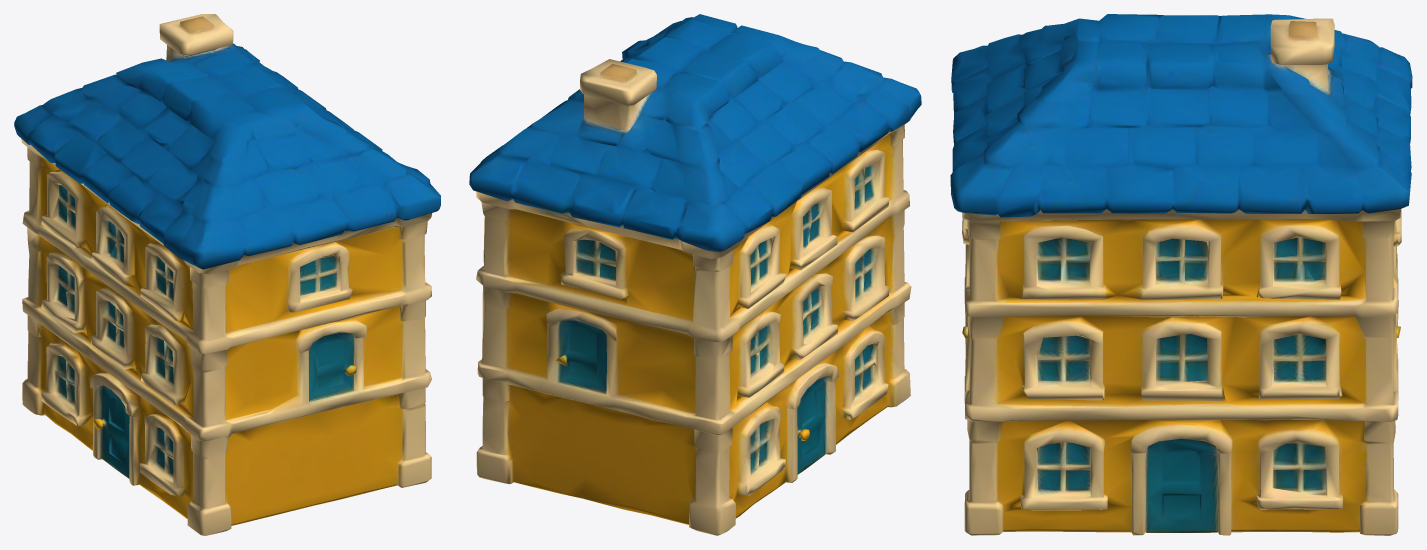
File: grandma-house.glb
3 views of the same model, side by side, from view 1: azimuth 30°, elevation 25°; view 2: azimuth 150°, elevation 25°; view 3: azimuth 270°, elevation 25° (orthographic). The views are drawn at different scales.
Parts seen in each view (by area): view 1: tripo_node_44814b10-dcca-4a2e-a59f-a83579afea25; view 2: tripo_node_44814b10-dcca-4a2e-a59f-a83579afea25; view 3: tripo_node_44814b10-dcca-4a2e-a59f-a83579afea25.
Boxes of the visible parts, x1=… form: tripo_node_44814b10-dcca-4a2e-a59f-a83579afea25: x1=14, y1=14, x2=440, y2=535; tripo_node_44814b10-dcca-4a2e-a59f-a83579afea25: x1=469, y1=14, x2=921, y2=535; tripo_node_44814b10-dcca-4a2e-a59f-a83579afea25: x1=950, y1=14, x2=1412, y2=535.
Size of the model in its own units: 0.6155 by 0.8764 by 0.8018.
1 material, 1 textured.
